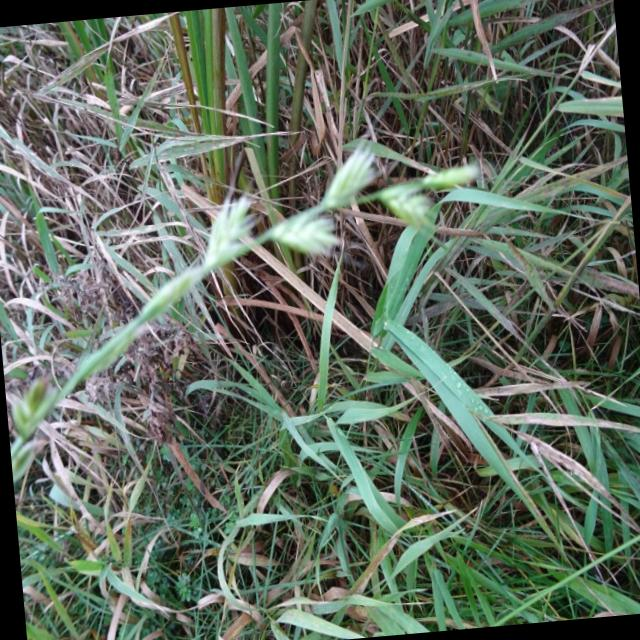Lolium: (0, 130, 500, 517)
